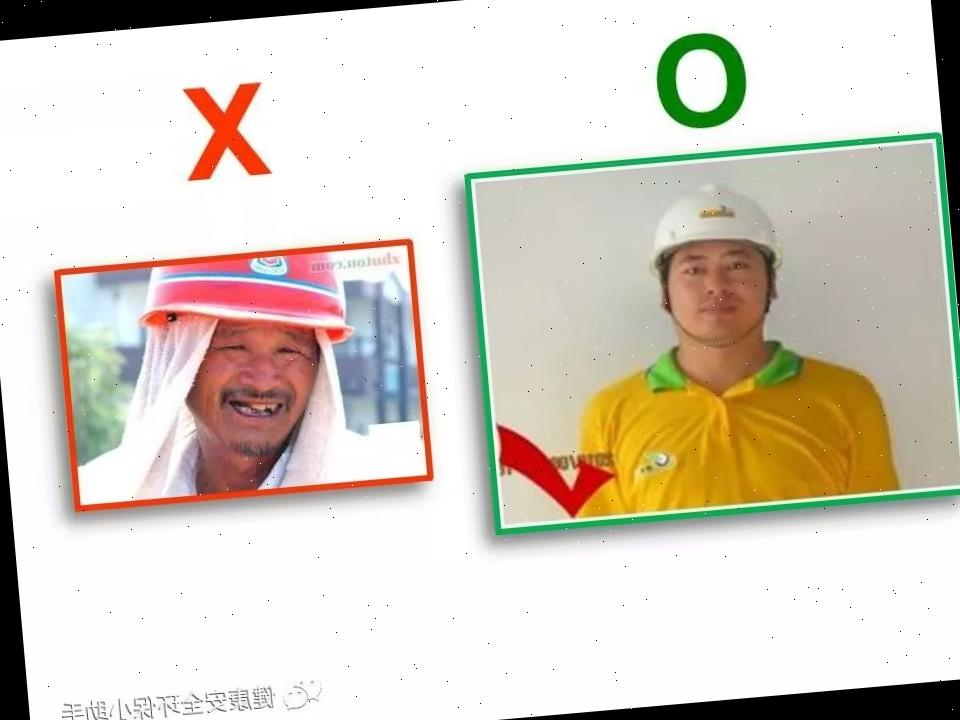helmet: (130, 244, 348, 354), (638, 175, 786, 276)
no_wear: (584, 363, 866, 522)
